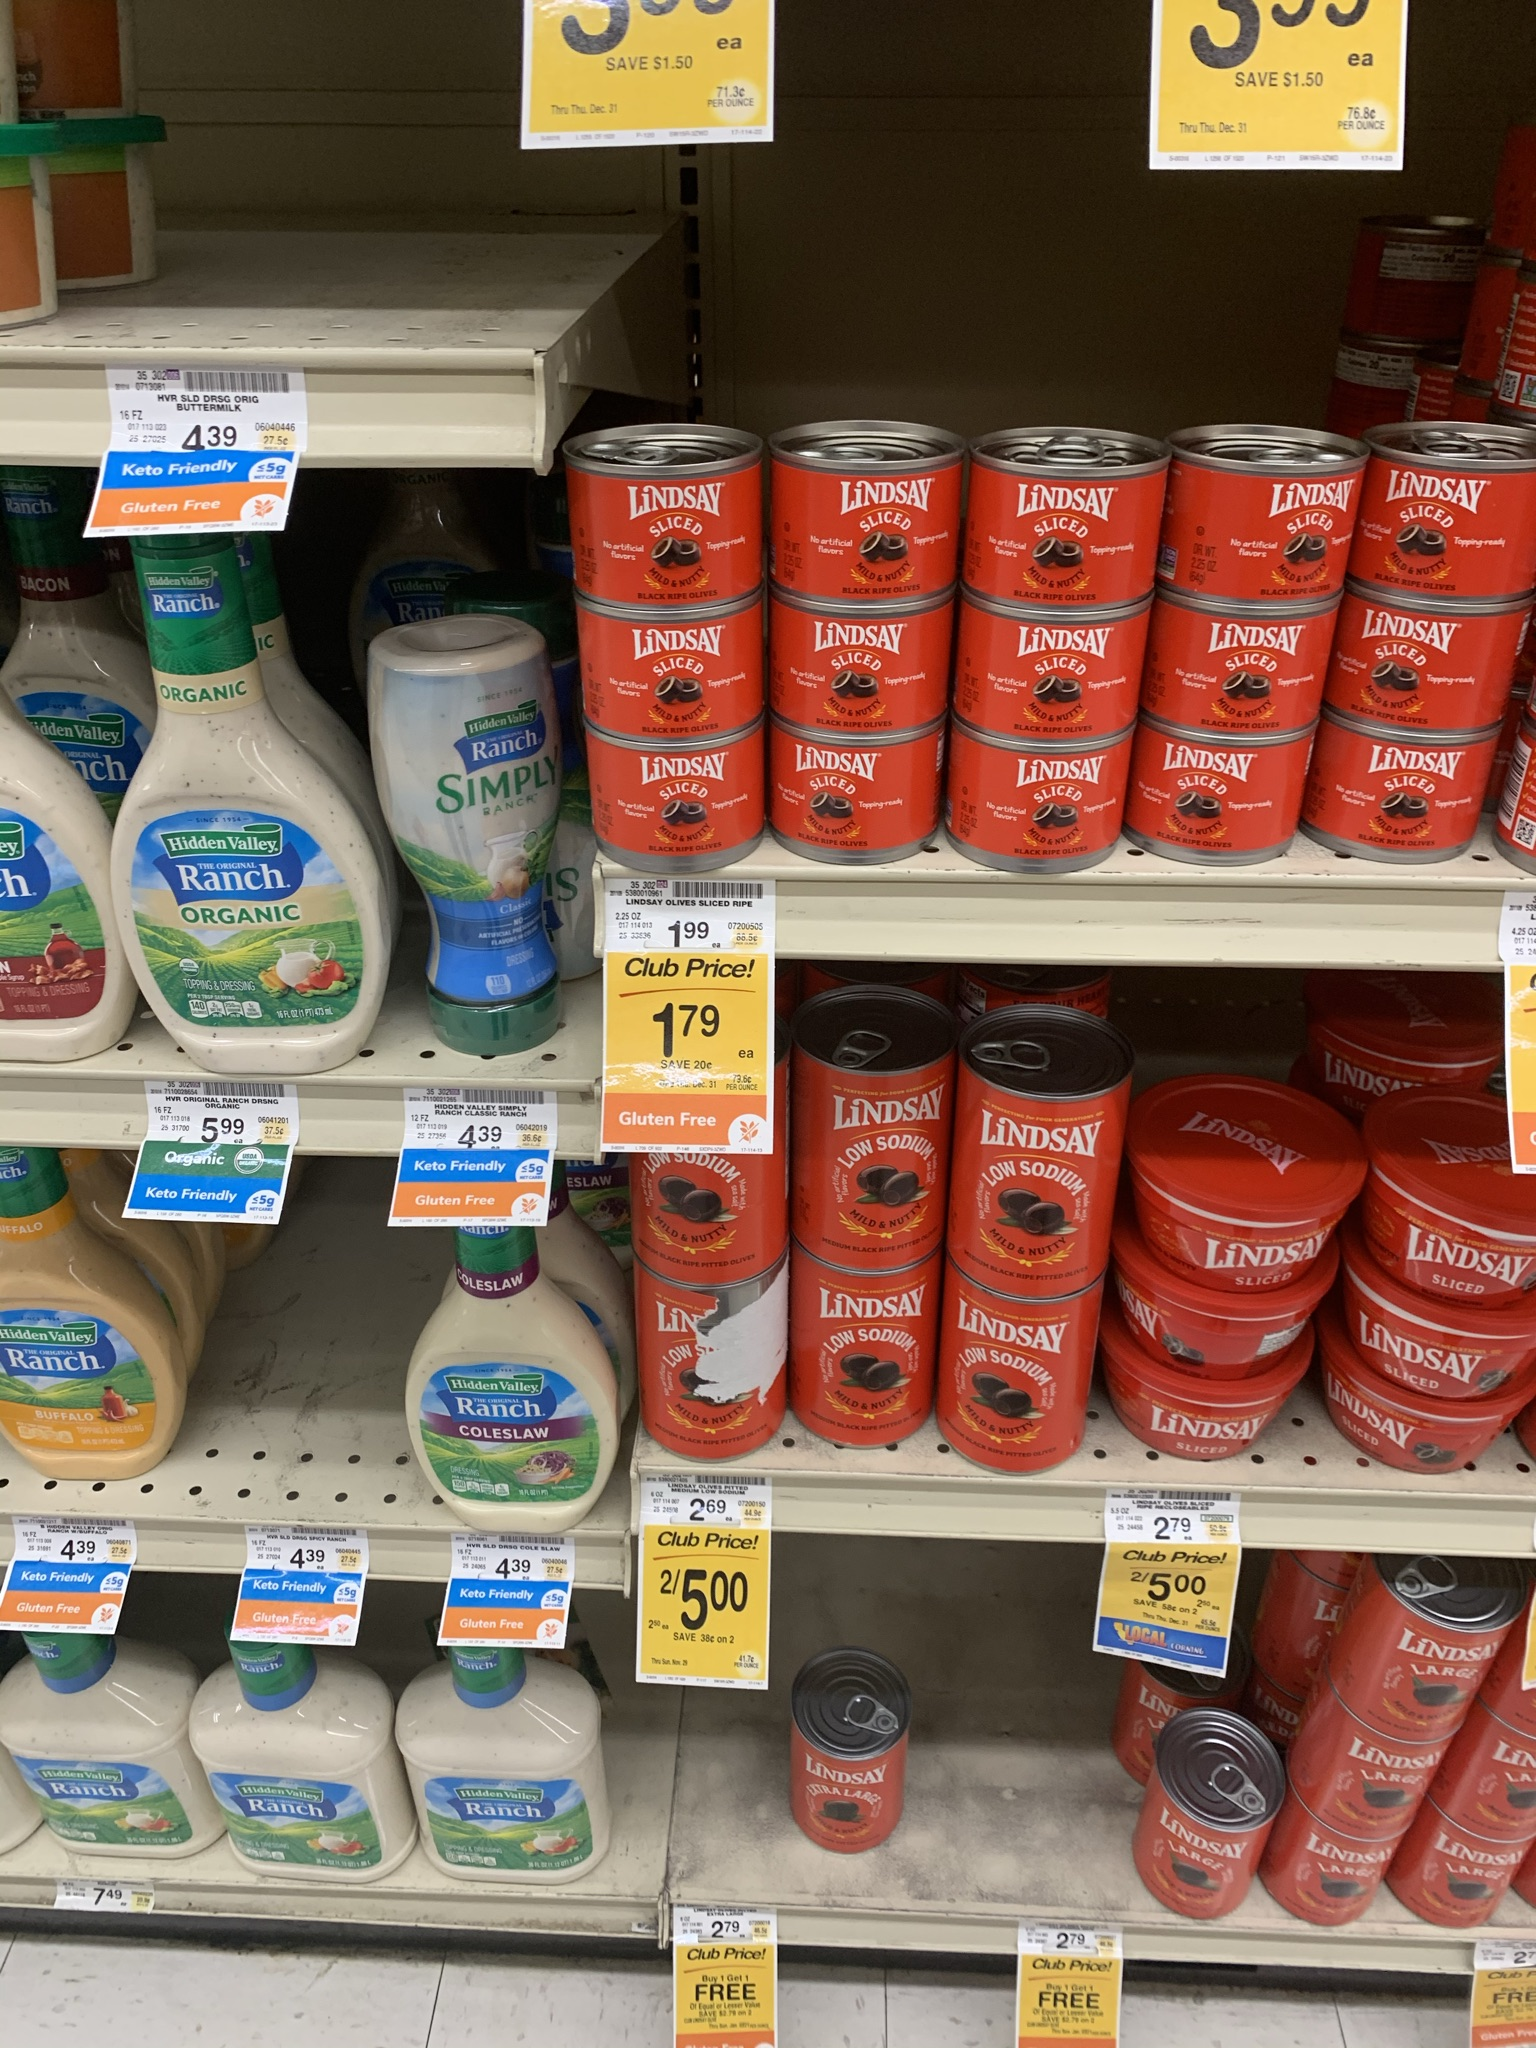can: (957, 1053, 1108, 1261), (820, 1040, 937, 1271), (586, 443, 760, 597), (978, 453, 1154, 597), (1376, 447, 1536, 598), (779, 453, 952, 590), (1184, 453, 1350, 593), (950, 1297, 1079, 1455), (650, 1292, 778, 1450), (591, 614, 757, 732), (979, 614, 1131, 734), (805, 1292, 921, 1442), (1175, 614, 1321, 732), (784, 614, 933, 731), (599, 751, 757, 860), (963, 753, 1113, 864), (1342, 747, 1484, 855), (779, 753, 921, 861), (1367, 619, 1509, 726), (1155, 755, 1304, 856), (1367, 1584, 1463, 1730), (1165, 1742, 1246, 1908), (812, 1696, 897, 1843), (1317, 1722, 1420, 1840), (1294, 1837, 1375, 1921)
